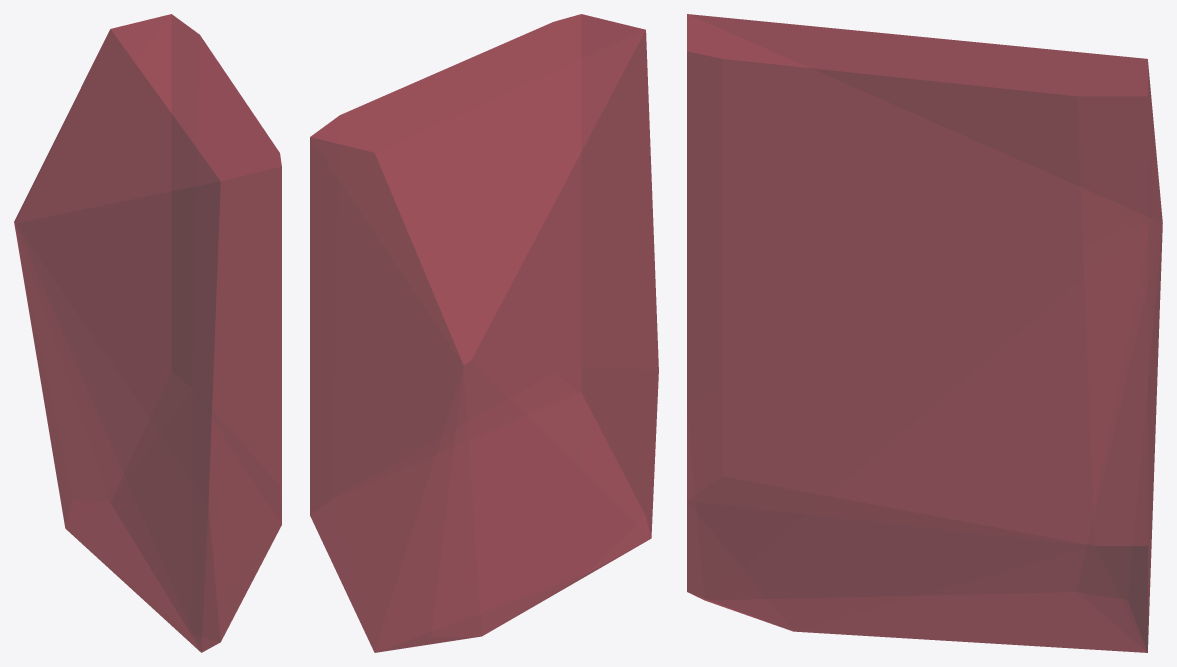
3 renders of one model, left to right at view 1: azimuth 30°, elevation 25°; view 2: azimuth 150°, elevation 25°; view 3: azimuth 270°, elevation 25°, orthographic. The views are drawn at different scales.
Visible parts, largest first — view 1: Shape_IndexedFaceSet.048_Shape_IndexedFaceSet.3542; view 2: Shape_IndexedFaceSet.048_Shape_IndexedFaceSet.3542; view 3: Shape_IndexedFaceSet.048_Shape_IndexedFaceSet.3542.
Boxes of the visible parts, left/top/right/bottom form: Shape_IndexedFaceSet.048_Shape_IndexedFaceSet.3542: left=14, top=14, right=281, bottom=652; Shape_IndexedFaceSet.048_Shape_IndexedFaceSet.3542: left=310, top=14, right=658, bottom=652; Shape_IndexedFaceSet.048_Shape_IndexedFaceSet.3542: left=687, top=14, right=1162, bottom=652.
Bounding box in the file's own units: 0.0484 × 0.1458 × 0.103.
